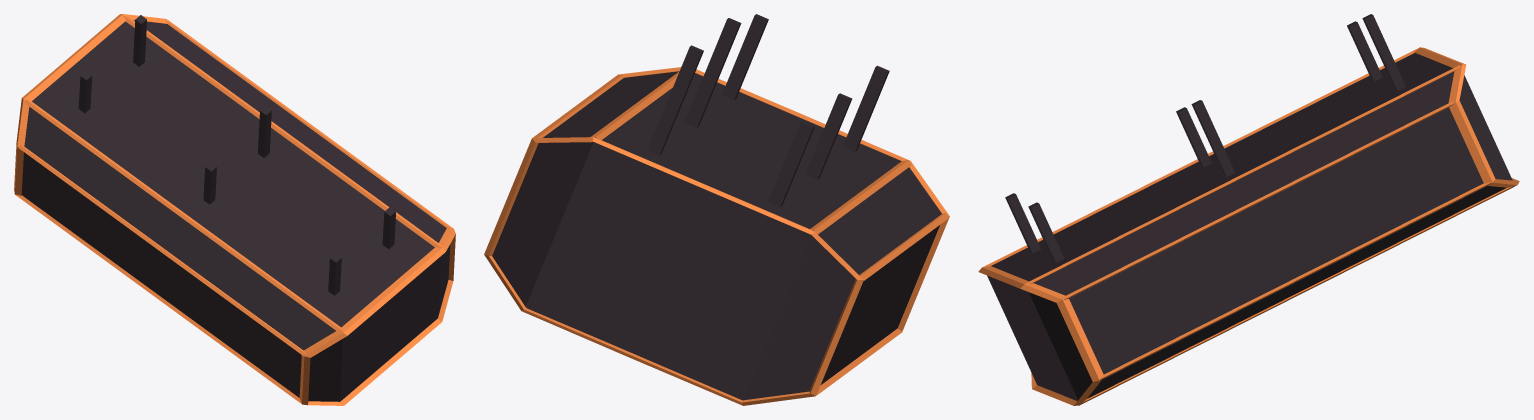
Rendered from F2.Cargo.001.fbx.
3 renders of one model, left to right at view 1: azimuth 30°, elevation 25°; view 2: azimuth 150°, elevation 25°; view 3: azimuth 270°, elevation 25°, orthographic. The views are drawn at different scales.
Visible parts, largest first — view 1: F2.Cargo.003; view 2: F2.Cargo.003; view 3: F2.Cargo.003.
Boxes of the visible parts, bbox=[...] form: F2.Cargo.003: bbox=[14, 14, 455, 405]; F2.Cargo.003: bbox=[484, 14, 949, 405]; F2.Cargo.003: bbox=[978, 14, 1519, 405].
Bounding box in the file's own units: 1690 × 1559 × 2229.
